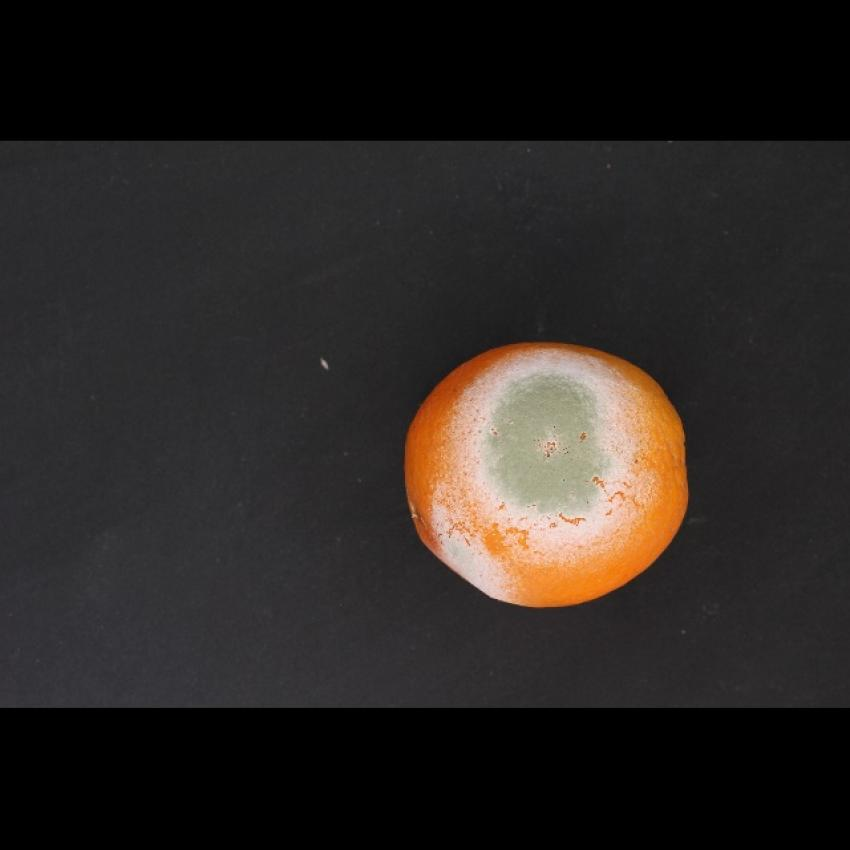Mal estado: (389, 332, 712, 616)
